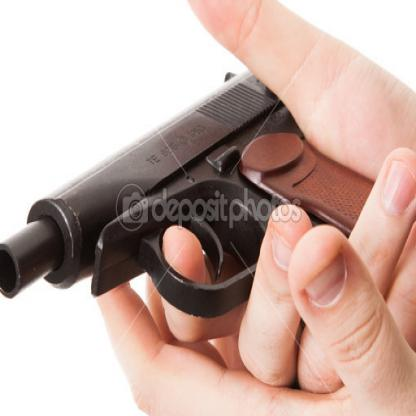gun: (0, 54, 415, 406)
